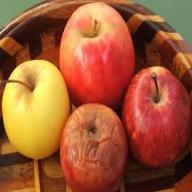apple: (60, 4, 132, 98), (58, 104, 127, 190), (129, 69, 190, 161), (3, 69, 70, 144)
